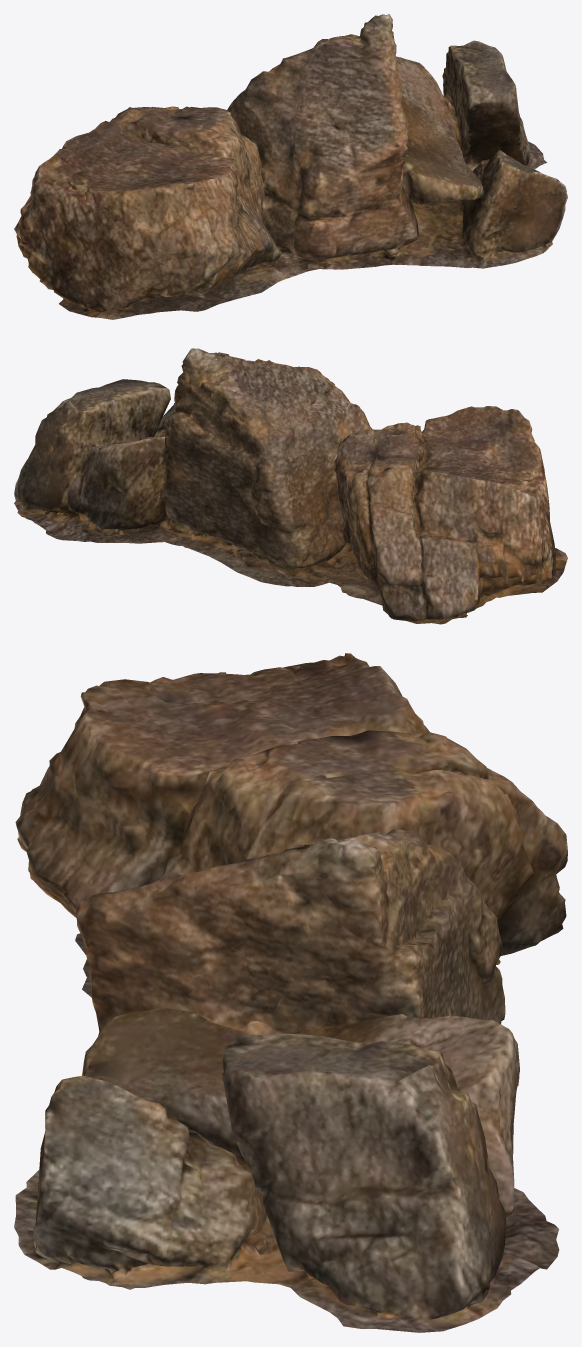
Rendered from boulder-2.glb.
The picture shows the model from 3 angles, top to bottom: view 1: azimuth 30°, elevation 25°; view 2: azimuth 150°, elevation 25°; view 3: azimuth 270°, elevation 25°; orthographic projection. The views are drawn at different scales.
Visible parts, largest first — view 1: boulder_02; view 2: boulder_02; view 3: boulder_02.
Part boxes in pixels (<box>): boulder_02: <box>14,14,567,319</box>; boulder_02: <box>14,348,567,624</box>; boulder_02: <box>14,653,567,1332</box>.
Size of the model in its own units: 2.53 by 0.8826 by 1.23.
Materials: 1 (1 with a texture image).
